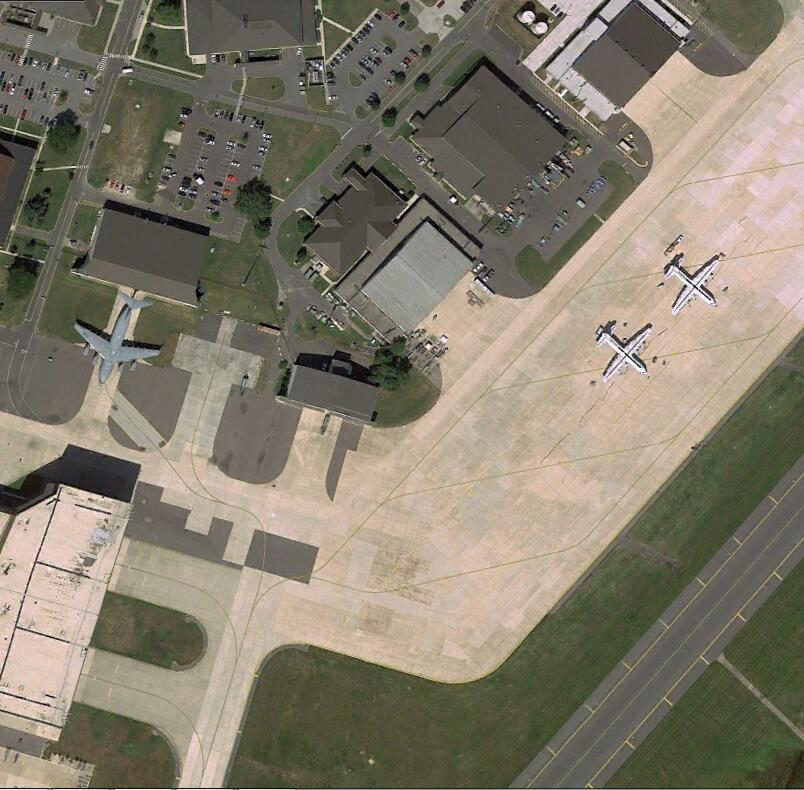A2: (663, 252, 725, 318), (593, 321, 658, 382)
A3: (72, 289, 163, 387)
